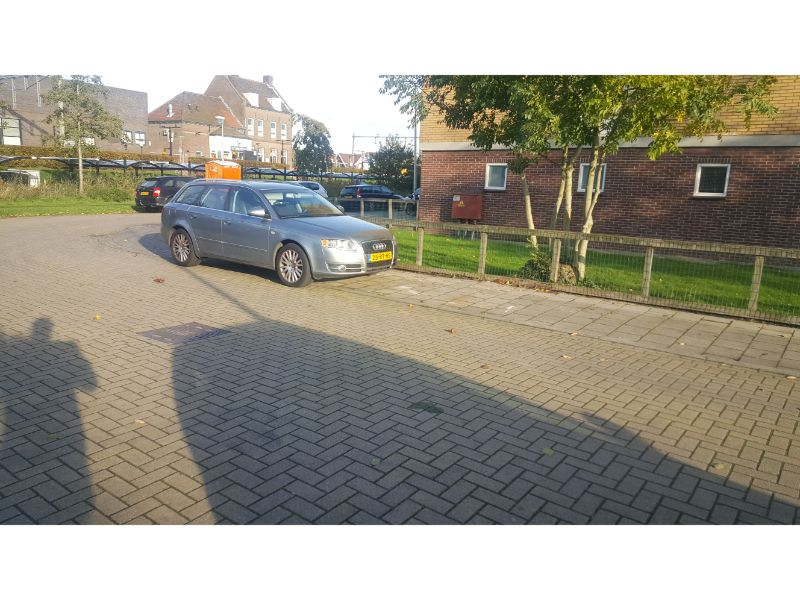kenteken: (367, 249, 395, 264)
